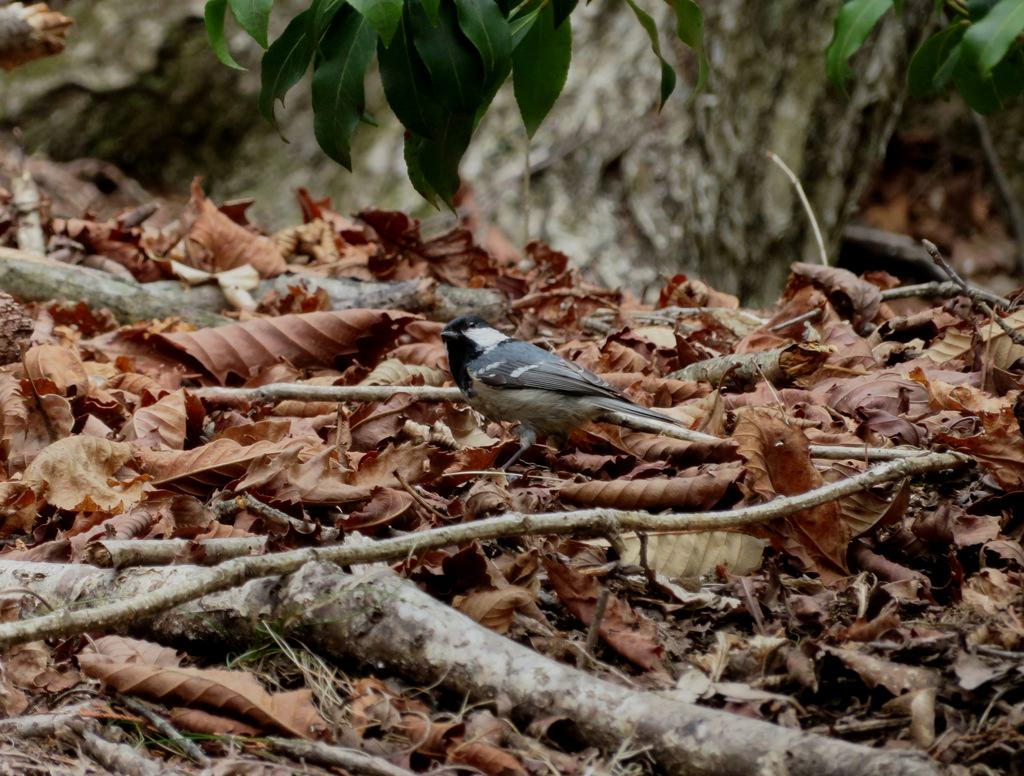PeriparusAter: (439, 313, 690, 468)
